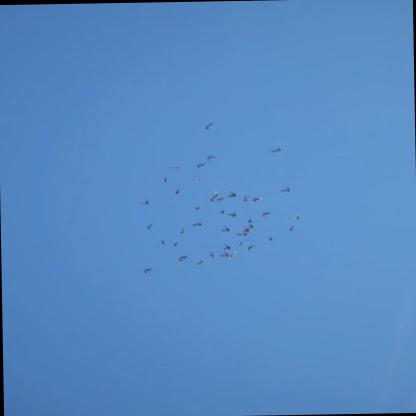bird: (193, 161, 207, 169), (206, 189, 220, 197), (248, 195, 262, 203), (154, 238, 165, 247), (237, 229, 249, 237), (190, 218, 203, 225), (226, 188, 237, 196), (226, 208, 237, 216), (137, 197, 149, 204), (207, 248, 217, 256), (220, 224, 230, 232), (168, 163, 179, 170), (217, 250, 228, 257), (240, 224, 251, 231), (269, 145, 280, 152), (228, 250, 237, 258), (204, 122, 214, 129), (222, 242, 232, 249), (204, 154, 215, 160), (279, 185, 290, 191), (191, 205, 201, 211), (216, 196, 226, 202), (261, 210, 271, 216), (143, 266, 151, 273), (146, 221, 154, 228), (179, 254, 187, 261), (196, 258, 204, 265), (242, 194, 250, 201), (265, 234, 273, 241), (292, 212, 300, 219), (195, 176, 203, 182), (207, 196, 215, 202), (219, 207, 227, 213), (237, 239, 245, 245), (246, 216, 254, 222), (287, 225, 295, 231), (172, 239, 178, 246), (180, 227, 186, 234), (248, 222, 254, 229), (173, 188, 181, 193), (247, 245, 255, 250), (162, 175, 168, 181)
